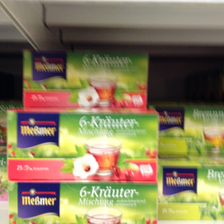tea: (5, 107, 159, 183), (22, 48, 150, 110)
